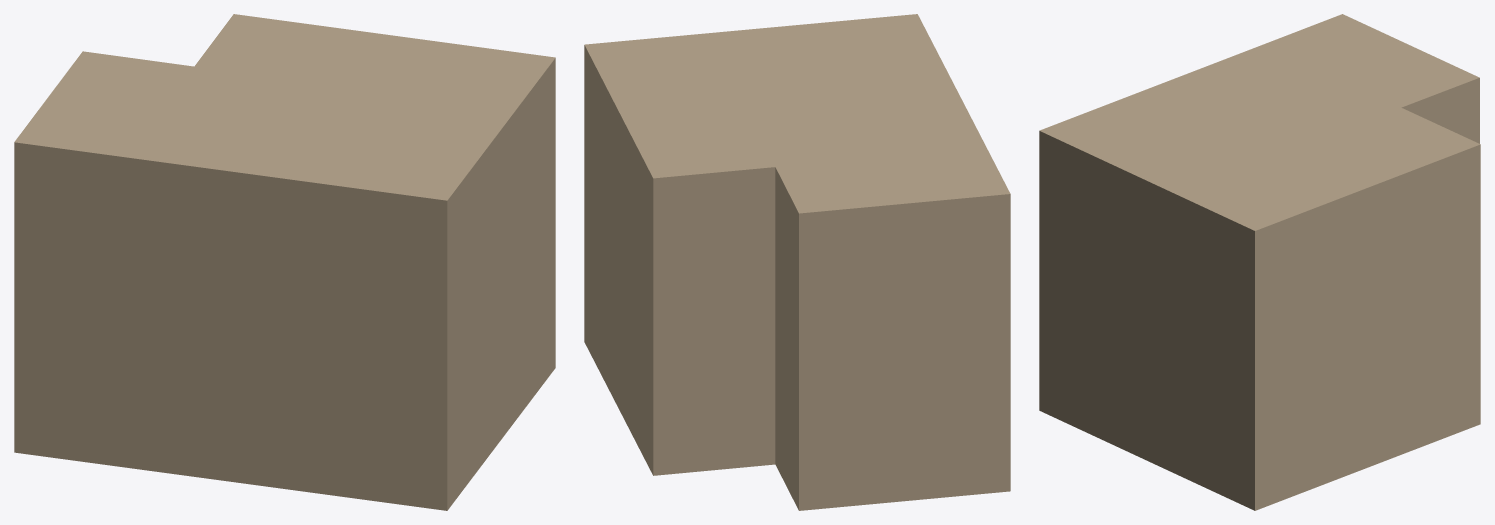
The model's file is bld_55879413.dae.
3 renders of one model, left to right at view 1: azimuth 30°, elevation 25°; view 2: azimuth 150°, elevation 25°; view 3: azimuth 270°, elevation 25°, orthographic. The views are drawn at different scales.
Visible parts, largest first — view 1: bld_55879413; view 2: bld_55879413; view 3: bld_55879413.
Part boxes in pixels (x1,y1,x2,y2): bld_55879413: (14, 14, 555, 510); bld_55879413: (584, 14, 1010, 510); bld_55879413: (1039, 14, 1480, 510).
Size of the model in its own units: 13.31 by 11.44 by 8.
